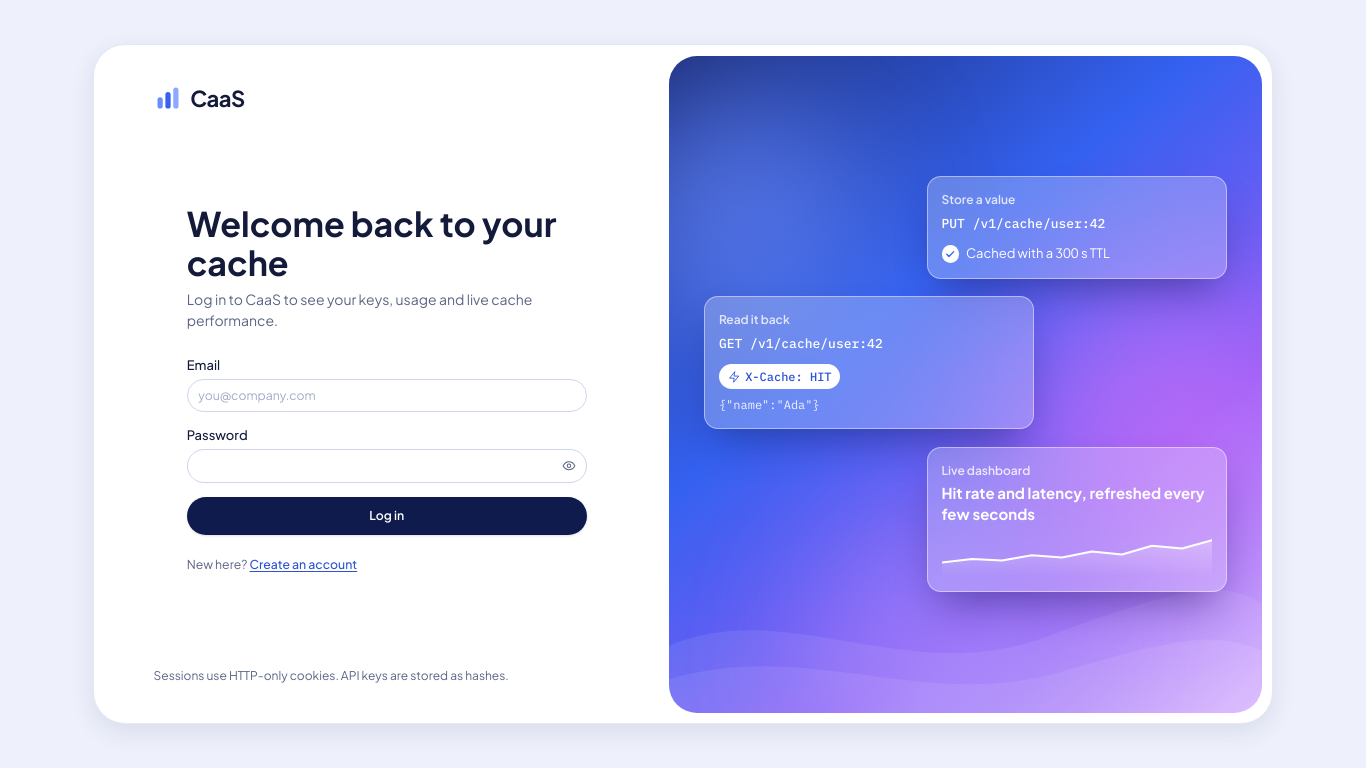
Test case: Login › shows error on invalid credentials
Type "a@b.com" into the field labelled "Email" at (387, 396), box top-left (187, 379), bottom-right (587, 412)
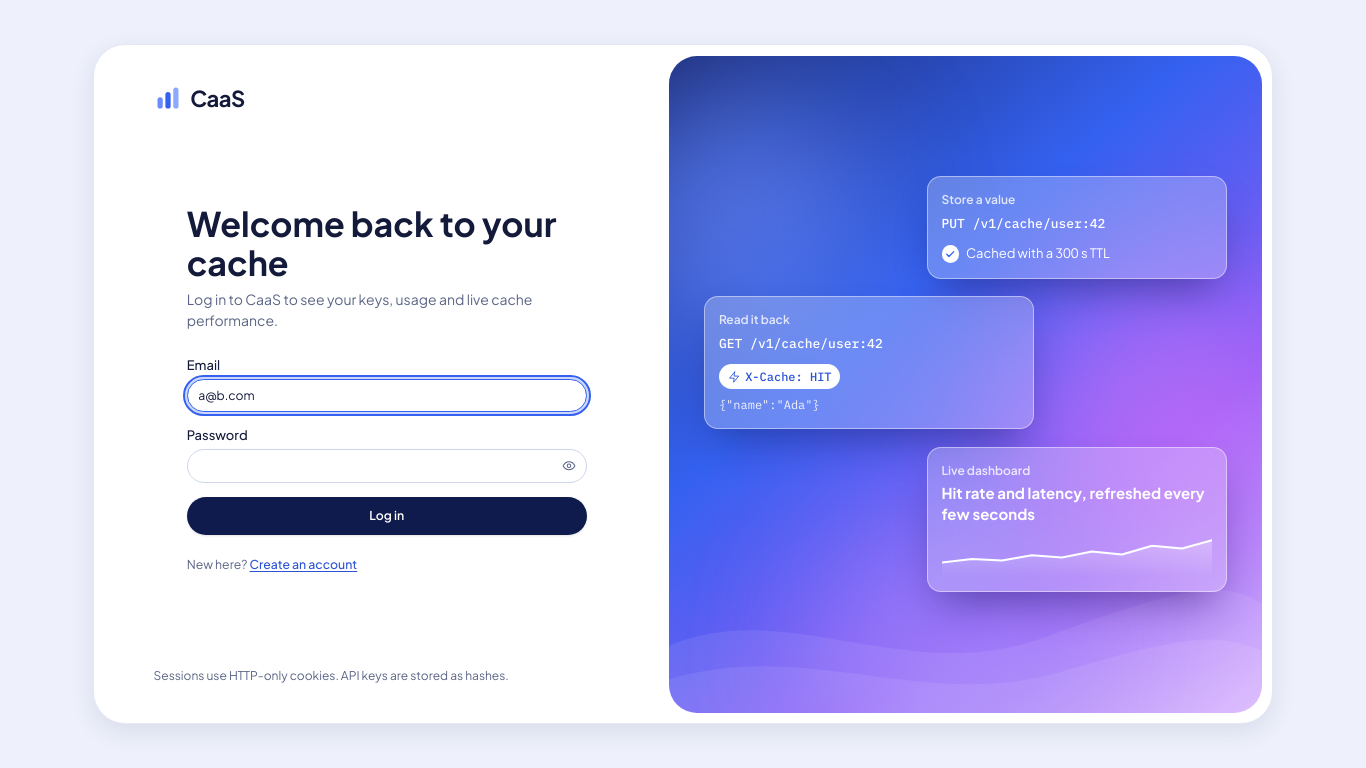
Type "wrongpass" into the password field labelled "Password" at (387, 466), box top-left (187, 449), bottom-right (587, 483)
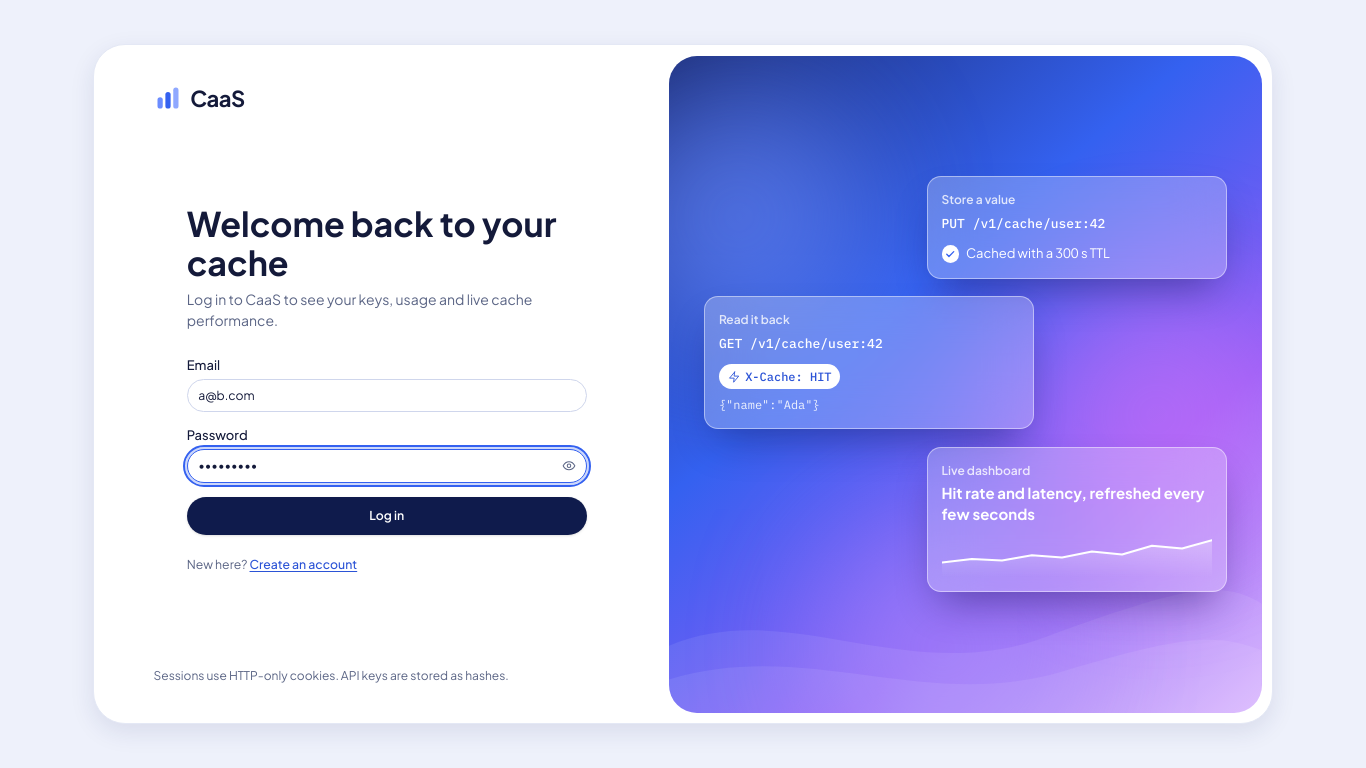
Click the button "Log in" at (387, 516), box top-left (187, 497), bottom-right (587, 535)
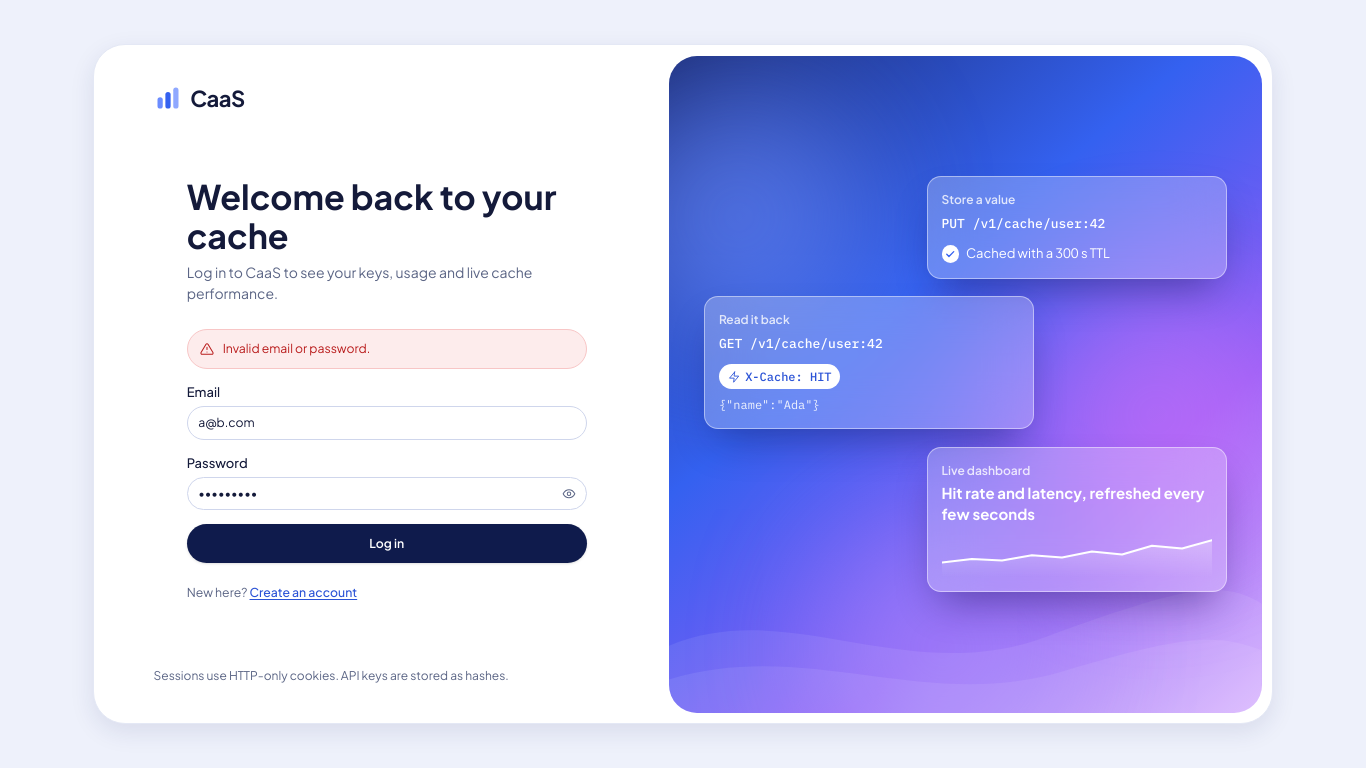
Expected: the message shows "Invalid email or password", top-left (223, 340), bottom-right (370, 356)
